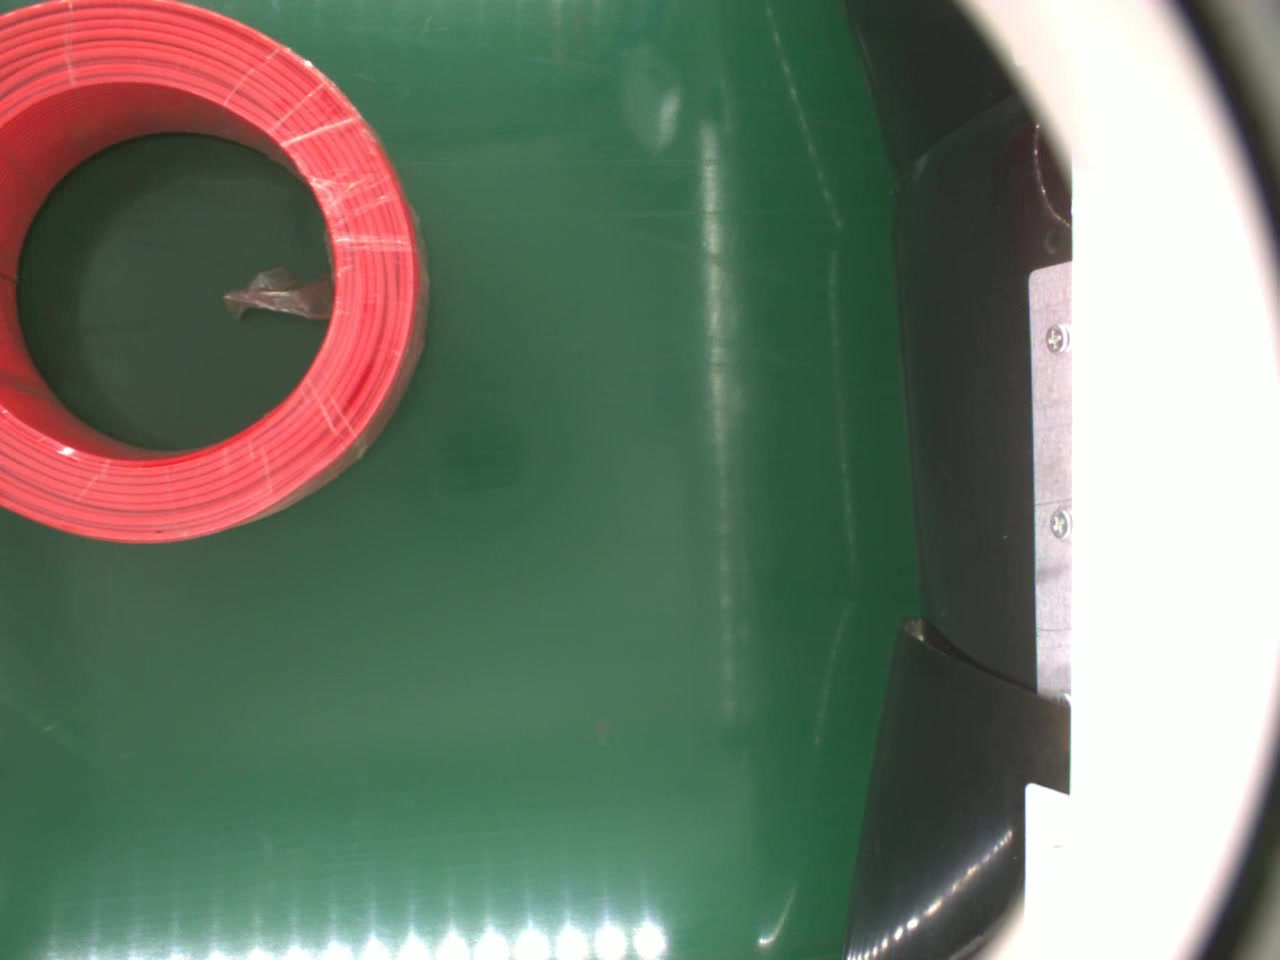red: (0, 1, 426, 548)
